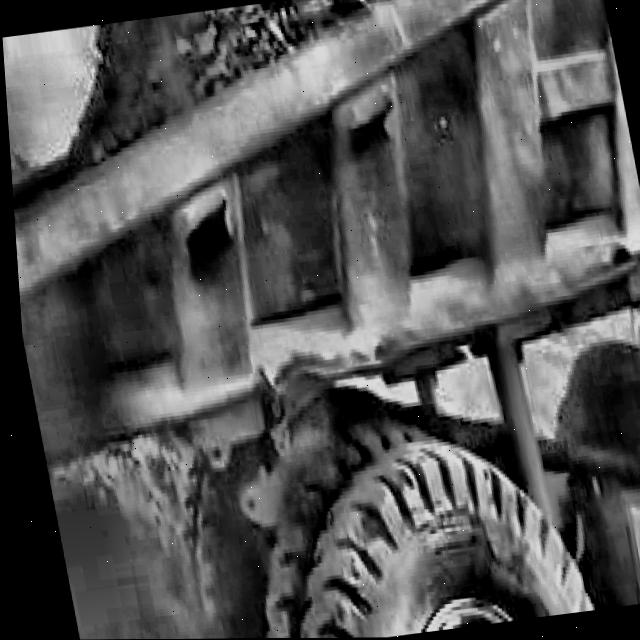dump_truck: (10, 0, 640, 639)
